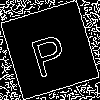P: (25, 25, 71, 79)
